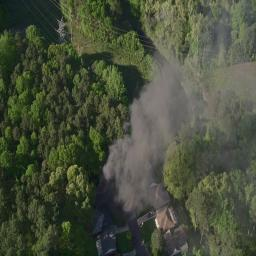Low smoke: (86, 20, 241, 225)
